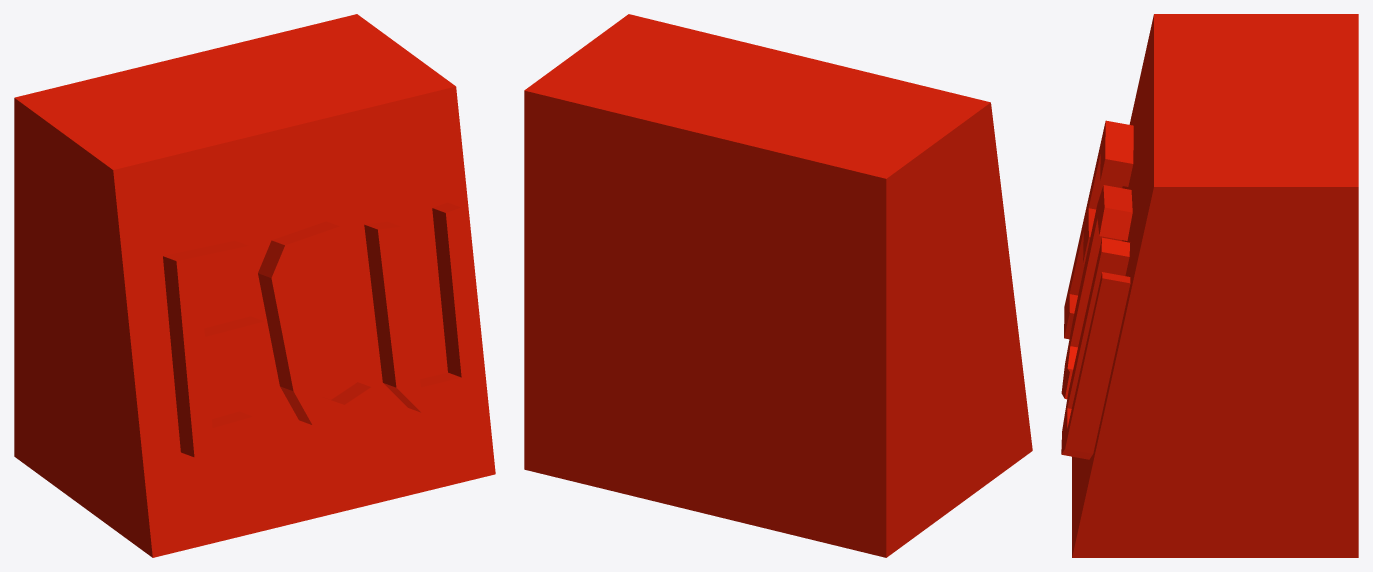
File: ECU.fbx
The picture shows the model from 3 angles, left to right: view 1: azimuth 30°, elevation 25°; view 2: azimuth 150°, elevation 25°; view 3: azimuth 270°, elevation 25°; orthographic projection. The views are drawn at different scales.
Visible parts, largest first — view 1: Cube; view 2: Cube; view 3: Cube.
Part boxes in pixels (bbox=[...]): Cube: bbox=[14, 14, 495, 557]; Cube: bbox=[524, 14, 1032, 557]; Cube: bbox=[1061, 14, 1358, 557].
Size of the model in its own units: 10 by 10 by 7.26.
